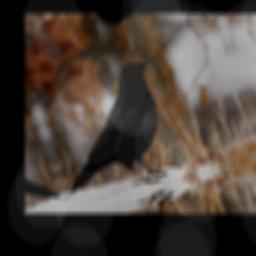Crow: (35, 54, 189, 209)
